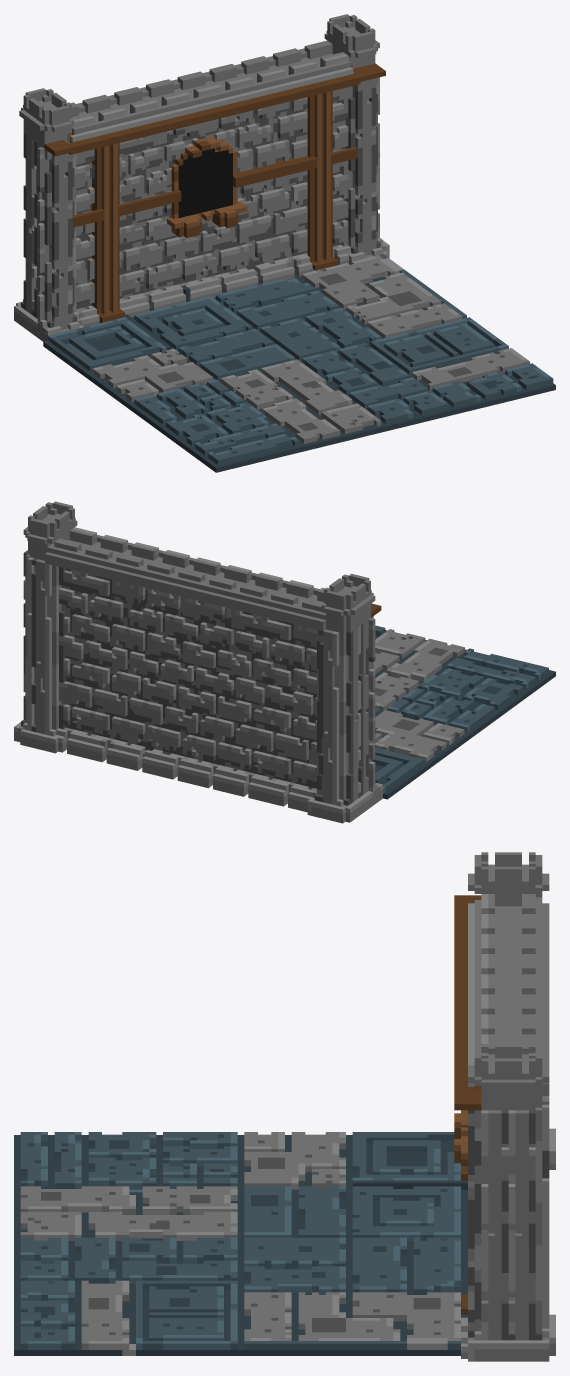
File: wall_Maderas.obj
3 views of the same model, one above another, from view 1: azimuth 30°, elevation 25°; view 2: azimuth 150°, elevation 25°; view 3: azimuth 270°, elevation 25° (orthographic). The views are drawn at different scales.
Size of the model in its own units: 77 by 48 by 80.
1 material, 1 textured.
